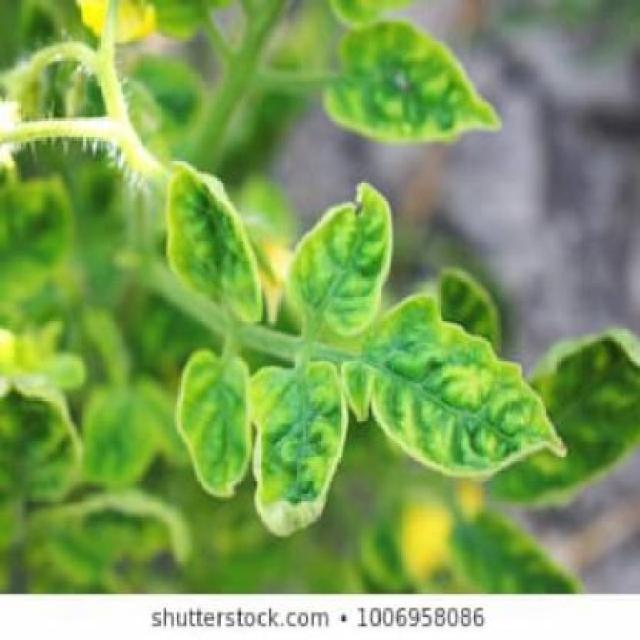Healthy Leaf: (349, 306, 595, 486), (326, 3, 503, 151), (242, 337, 358, 543), (290, 172, 407, 349), (154, 342, 257, 519), (158, 138, 249, 335)
